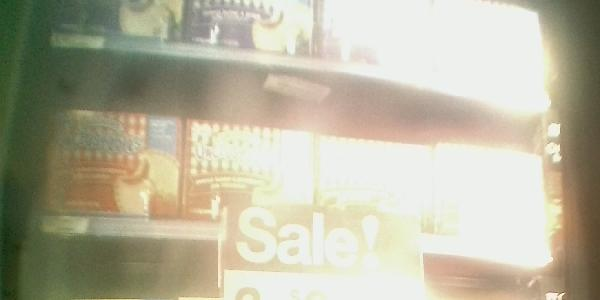icecream: (47, 107, 183, 221), (187, 115, 318, 230), (322, 139, 432, 243)
